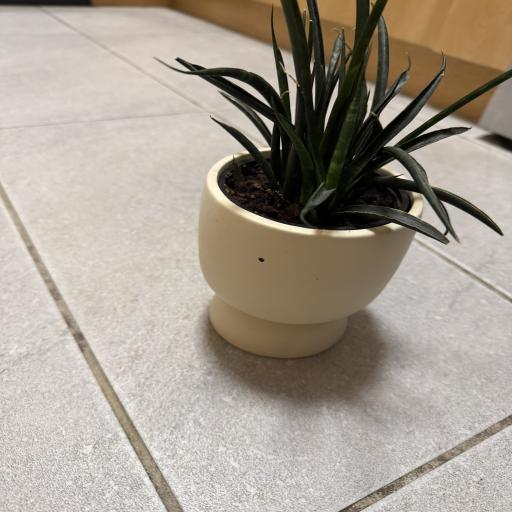Plant Pot: (182, 145, 425, 358)
